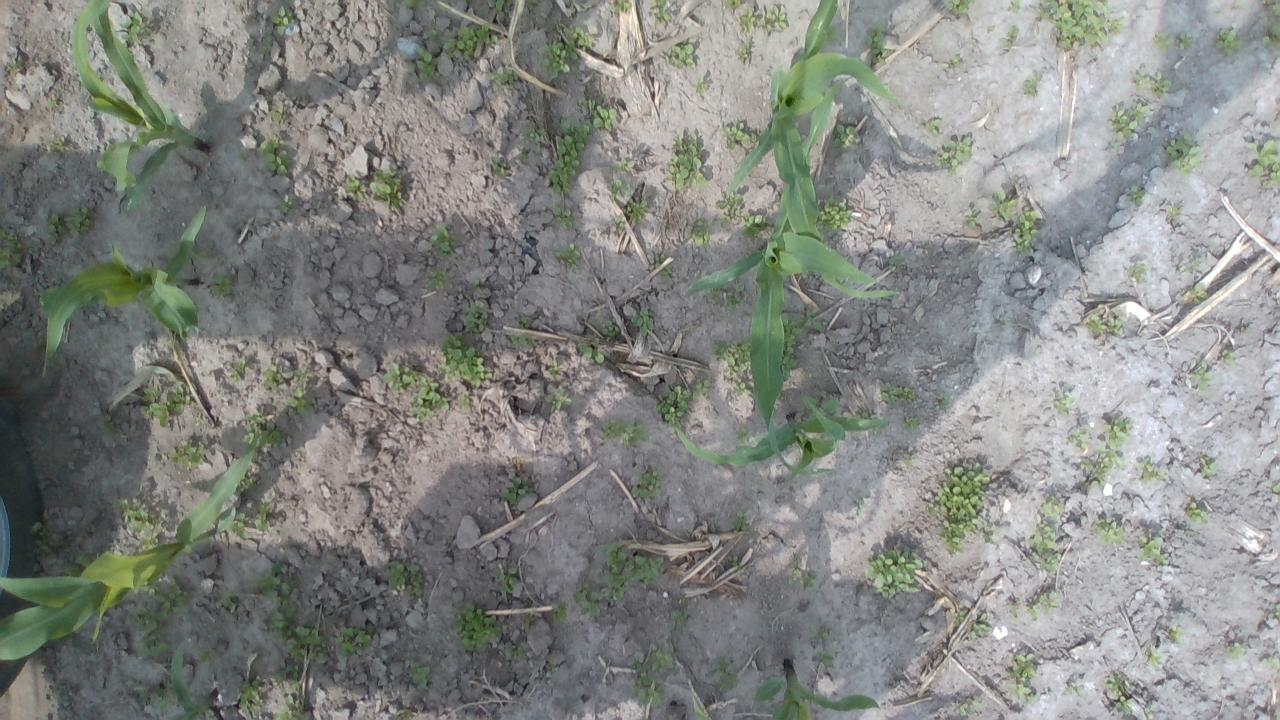Maize: (682, 79, 846, 484), (0, 422, 262, 656), (722, 0, 912, 303), (70, 0, 210, 211), (39, 202, 207, 372), (671, 416, 895, 470), (689, 663, 884, 720), (162, 647, 218, 720)
Weeds: (924, 461, 991, 558), (382, 362, 451, 422), (1081, 414, 1132, 493), (252, 561, 296, 644), (1037, 0, 1111, 49), (863, 546, 929, 600), (550, 120, 592, 195), (436, 332, 492, 386), (663, 131, 710, 192), (447, 602, 502, 652), (116, 496, 166, 550), (140, 382, 194, 428), (270, 664, 308, 720), (1108, 100, 1150, 150), (1026, 514, 1062, 572), (442, 22, 498, 59), (130, 607, 169, 660), (282, 622, 331, 664), (596, 540, 630, 600), (776, 311, 804, 383), (1241, 139, 1280, 189), (44, 204, 94, 242), (142, 575, 192, 613), (654, 381, 691, 431), (240, 408, 284, 450), (1162, 134, 1204, 176), (382, 556, 424, 596), (630, 660, 663, 710), (537, 40, 578, 80), (369, 167, 406, 211), (932, 136, 973, 175), (284, 368, 318, 415), (256, 133, 292, 176), (813, 194, 853, 232), (332, 625, 377, 658), (710, 338, 751, 374), (1011, 207, 1040, 256), (602, 418, 648, 448), (1104, 672, 1136, 714), (116, 10, 153, 46), (705, 656, 741, 693), (1130, 66, 1170, 99), (0, 226, 29, 271), (578, 100, 618, 132), (27, 522, 64, 556), (168, 438, 205, 470), (866, 23, 894, 65), (134, 682, 176, 710), (1257, 0, 1280, 51), (714, 189, 744, 228), (428, 223, 461, 258), (518, 120, 546, 161), (627, 555, 664, 586), (786, 555, 818, 590), (499, 476, 535, 507), (630, 469, 664, 501), (1028, 590, 1062, 622), (1136, 534, 1170, 566), (572, 582, 602, 618), (722, 120, 758, 150), (1090, 516, 1126, 546), (1183, 359, 1215, 392), (1134, 454, 1168, 485), (412, 46, 440, 82), (62, 551, 99, 577), (802, 394, 839, 420), (1085, 312, 1122, 338), (1214, 28, 1248, 56), (562, 25, 597, 52), (490, 565, 520, 596), (459, 300, 489, 331), (988, 190, 1018, 220), (684, 218, 715, 247), (240, 678, 263, 716), (877, 381, 915, 404), (648, 642, 676, 673), (262, 363, 290, 393), (489, 64, 519, 92), (228, 354, 255, 384), (629, 306, 656, 336), (762, 6, 788, 36), (576, 336, 604, 363), (543, 386, 572, 412), (554, 242, 580, 271), (270, 7, 296, 36), (1010, 652, 1036, 681), (670, 42, 696, 70), (94, 412, 120, 440), (226, 511, 251, 540), (1038, 495, 1064, 522), (832, 124, 858, 151), (742, 213, 772, 236), (208, 274, 236, 298), (968, 614, 992, 642), (1006, 682, 1035, 705), (650, 0, 674, 27), (410, 658, 430, 690), (625, 197, 650, 222), (1066, 428, 1091, 453), (234, 470, 258, 496), (666, 608, 690, 634), (344, 173, 366, 201), (552, 205, 576, 230), (1050, 390, 1074, 415), (724, 282, 746, 309), (254, 498, 272, 530), (1184, 500, 1208, 524), (1185, 282, 1208, 306), (1197, 454, 1218, 480), (653, 253, 674, 278), (728, 509, 748, 535), (1126, 184, 1148, 207), (1021, 72, 1042, 96), (996, 26, 1018, 48), (959, 697, 982, 718), (550, 600, 570, 624), (509, 332, 539, 348), (426, 270, 450, 290), (804, 308, 824, 332), (1126, 262, 1148, 283), (1178, 253, 1200, 274), (739, 7, 758, 31), (812, 649, 836, 668), (736, 38, 754, 63), (222, 588, 240, 613), (1146, 644, 1164, 669), (1152, 31, 1172, 53), (920, 117, 943, 136), (947, 0, 975, 15), (732, 426, 754, 445), (188, 245, 212, 262), (691, 379, 711, 399), (600, 318, 620, 338), (730, 376, 749, 397), (886, 252, 908, 270), (824, 22, 842, 44), (607, 178, 629, 196), (724, 554, 747, 571), (489, 156, 508, 176), (1176, 33, 1198, 50), (852, 408, 878, 422), (276, 194, 296, 212), (268, 104, 286, 124), (1166, 625, 1186, 643), (961, 209, 979, 229), (694, 76, 710, 98), (458, 389, 474, 411), (505, 642, 524, 660), (983, 526, 1002, 544), (935, 393, 952, 412), (1065, 682, 1085, 698), (1225, 642, 1245, 658), (1110, 15, 1126, 35), (611, 0, 632, 15), (395, 707, 419, 720), (1164, 204, 1182, 221), (1260, 656, 1280, 671), (520, 612, 537, 629), (852, 497, 868, 515), (706, 284, 722, 302), (1220, 348, 1236, 366), (614, 158, 634, 172), (901, 416, 920, 430), (952, 606, 968, 622), (49, 137, 66, 152), (198, 647, 215, 662), (942, 56, 963, 68), (613, 214, 627, 232), (488, 0, 512, 10), (46, 94, 59, 112), (1267, 602, 1280, 620), (811, 630, 832, 640), (1006, 0, 1022, 13), (902, 452, 916, 466), (405, 0, 426, 9), (546, 360, 559, 374), (11, 57, 23, 72), (45, 455, 58, 468), (426, 27, 438, 41), (724, 0, 742, 9), (528, 0, 540, 13), (518, 316, 530, 329), (1232, 0, 1244, 12), (260, 42, 272, 54), (1007, 602, 1020, 613), (238, 150, 248, 164), (871, 424, 882, 436), (1272, 479, 1280, 494), (1144, 706, 1153, 718), (998, 316, 1006, 329), (1273, 707, 1280, 720), (472, 278, 481, 288)
